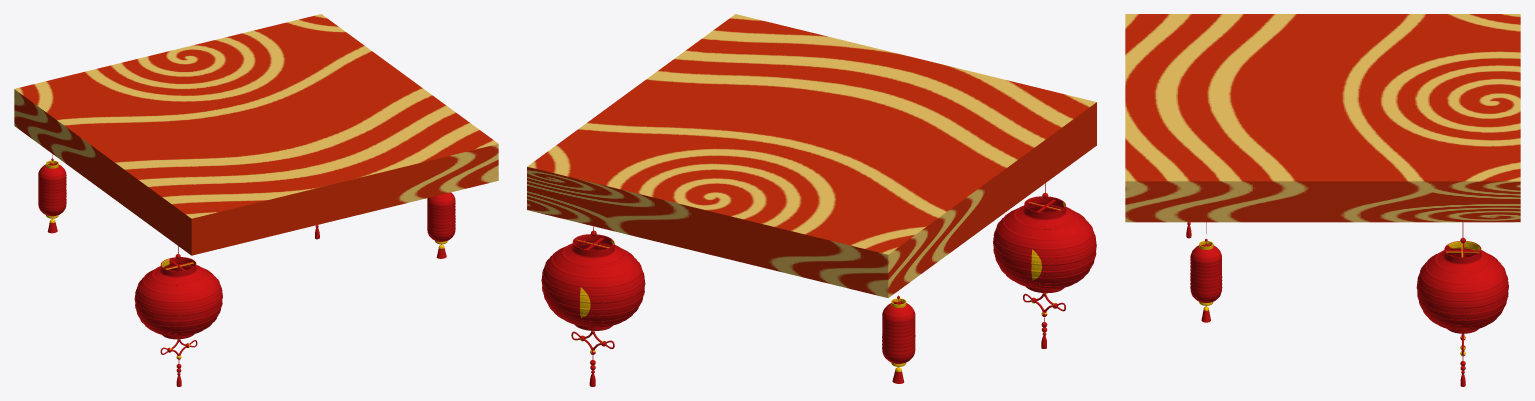
Rendered from chinese_plate.fbx.
The picture shows the model from 3 angles, left to right: view 1: azimuth 30°, elevation 25°; view 2: azimuth 150°, elevation 25°; view 3: azimuth 270°, elevation 25°; orthographic projection. The views are drawn at different scales.
Visible parts, largest first — view 1: Cube, Lanternv001.002, Lantern_v002.003, Lantern_v002.002; view 2: Cube, Lanternv001.003, Lanternv001.002, Lantern_v002.003; view 3: Cube, Lanternv001.003, Lantern_v002.002.
Part boxes in pixels (left/top/right/bottom): Cube: left=14, top=14, right=498, bottom=255; Lanternv001.002: left=134, top=246, right=222, bottom=386; Lantern_v002.003: left=38, top=154, right=66, bottom=233; Lantern_v002.002: left=427, top=192, right=455, bottom=258; Cube: left=527, top=14, right=1096, bottom=297; Lanternv001.003: left=541, top=226, right=645, bottom=386; Lanternv001.002: left=993, top=183, right=1096, bottom=348; Lantern_v002.003: left=882, top=295, right=915, bottom=383; Cube: left=1125, top=14, right=1520, bottom=222; Lanternv001.003: left=1416, top=222, right=1508, bottom=386; Lantern_v002.002: left=1190, top=222, right=1222, bottom=322.
Size of the model in its own units: 220 by 123 by 200.
3 materials, 3 textured.
